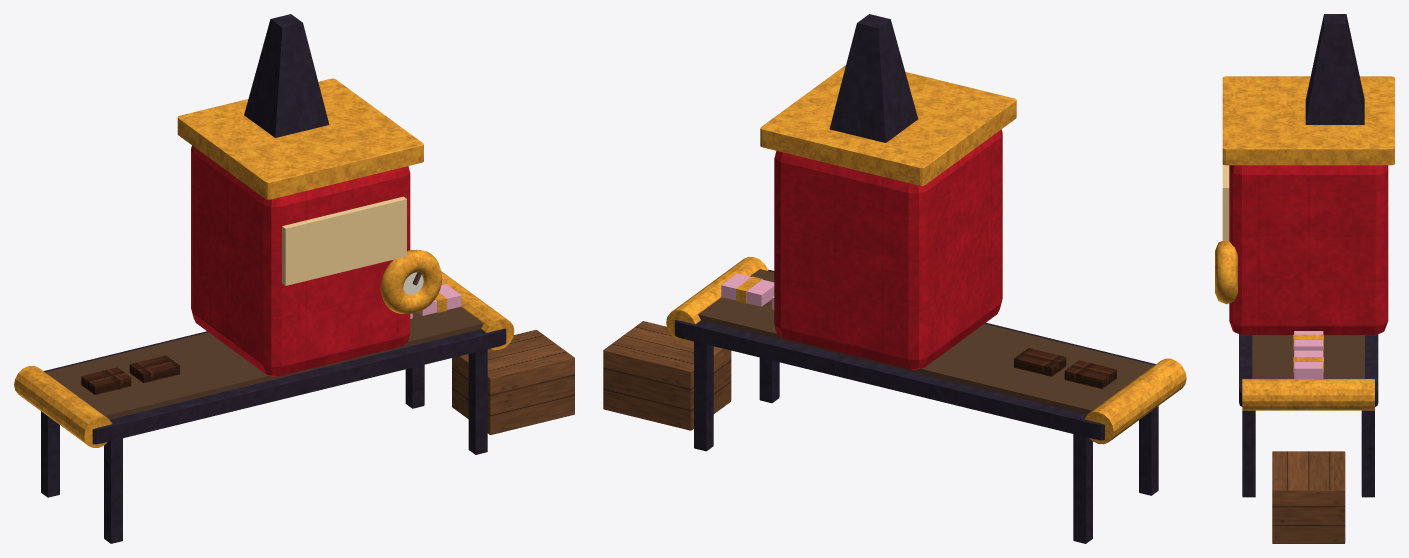
Rendered from CHO_PackingMachine.fbx.
3 renders of one model, left to right at view 1: azimuth 30°, elevation 25°; view 2: azimuth 150°, elevation 25°; view 3: azimuth 270°, elevation 25°, orthographic. The views are drawn at different scales.
Parts seen in each view (by area): view 1: CHO_PackingMachine; view 2: CHO_PackingMachine; view 3: CHO_PackingMachine.
Boxes of the visible parts, <box> form: CHO_PackingMachine: <box>14,14,574,543</box>; CHO_PackingMachine: <box>603,14,1186,543</box>; CHO_PackingMachine: <box>1215,14,1394,543</box>.
Size of the model in its own units: 4.17 by 3.4 by 1.36.
